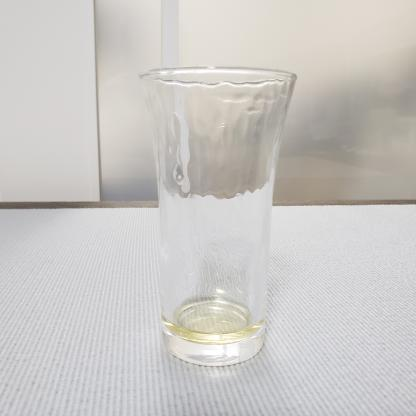glass: (133, 62, 316, 372)
